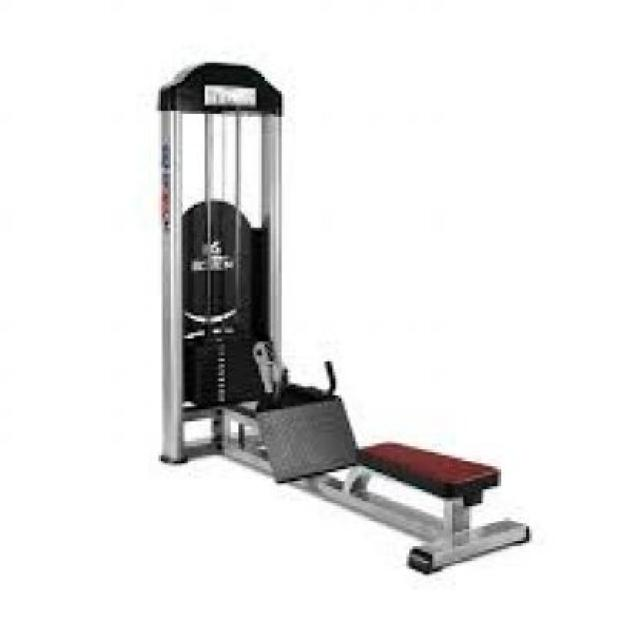Seated Cable Rows: (140, 49, 557, 577)
